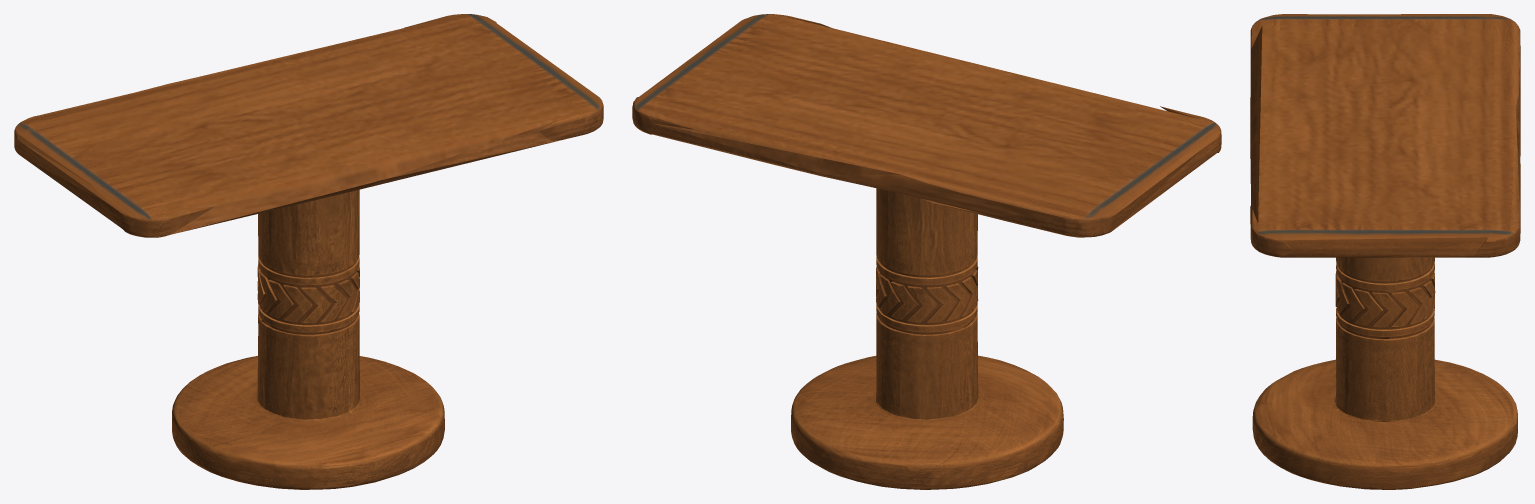
File: pedestal_table.glb
3 renders of one model, left to right at view 1: azimuth 30°, elevation 25°; view 2: azimuth 150°, elevation 25°; view 3: azimuth 270°, elevation 25°, orthographic. The views are drawn at different scales.
Parts seen in each view (by area): view 1: output_unwrapped; view 2: output_unwrapped; view 3: output_unwrapped.
Boxes of the visible parts, left/top/right/bottom form: output_unwrapped: left=14, top=14, right=603, bottom=489; output_unwrapped: left=632, top=14, right=1221, bottom=489; output_unwrapped: left=1250, top=14, right=1520, bottom=489.
Bounding box in the file's own units: 1.9 × 1.22 × 0.956.
Materials: 1 (1 with a texture image).
